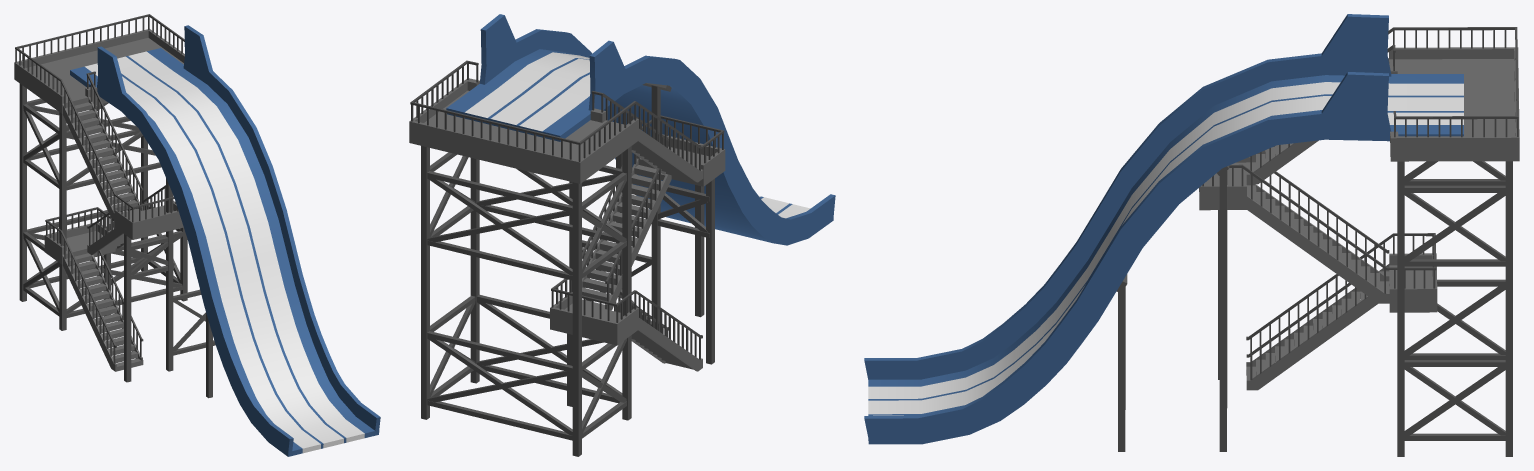
Rendered from Water_slide_03.fbx.
3 views of the same model, side by side, from view 1: azimuth 30°, elevation 25°; view 2: azimuth 150°, elevation 25°; view 3: azimuth 270°, elevation 25° (orthographic). The views are drawn at different scales.
Parts seen in each view (by area): view 1: Water_slide_03; view 2: Water_slide_03; view 3: Water_slide_03.
Part boxes in pixels (x1,y1,x2,y2): Water_slide_03: (14,14,380,456); Water_slide_03: (409,14,835,456); Water_slide_03: (864,14,1519,456).
Size of the model in its own units: 592 by 1169 by 1803.
